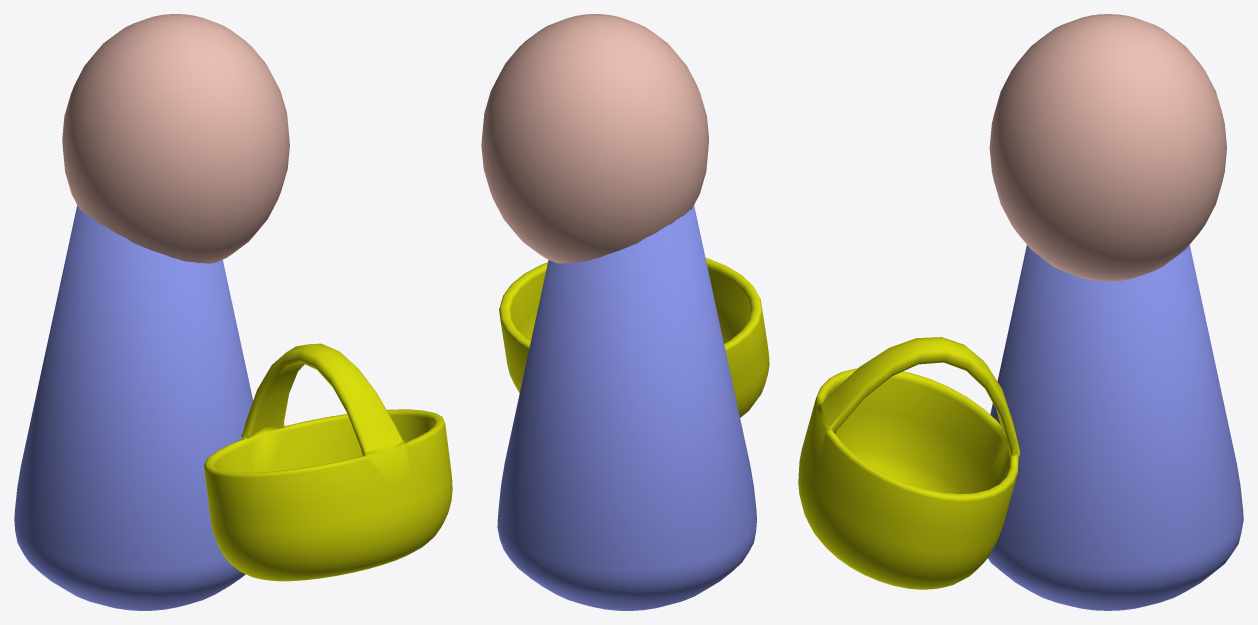
The model's file is Cueilleur.fbx.
The picture shows the model from 3 angles, left to right: view 1: azimuth 30°, elevation 25°; view 2: azimuth 150°, elevation 25°; view 3: azimuth 270°, elevation 25°; orthographic projection. The views are drawn at different scales.
Parts seen in each view (by area): view 1: Sphere, Cylinder; view 2: Sphere, Cylinder; view 3: Sphere, Cylinder.
Part boxes in pixels (<box>): Sphere: <box>14,14,289,610</box>; Cylinder: <box>204,343,452,581</box>; Sphere: <box>481,14,756,610</box>; Cylinder: <box>499,258,769,417</box>; Sphere: <box>988,14,1243,610</box>; Cylinder: <box>798,337,1019,589</box>.
Size of the model in its own units: 160 by 270 by 187.
